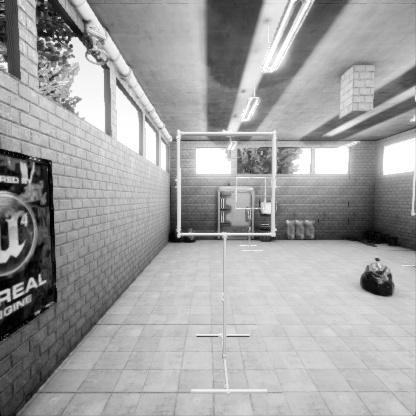gate: (179, 185, 281, 286), (235, 207, 267, 239)
